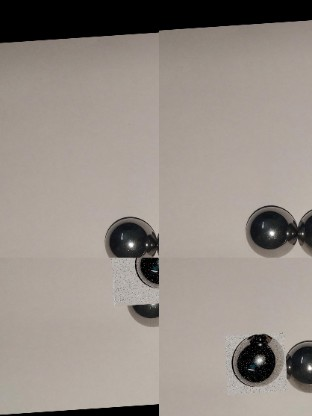ironball: (223, 335, 284, 397), (244, 204, 299, 253), (109, 257, 159, 307), (103, 210, 157, 256), (283, 334, 312, 400)
